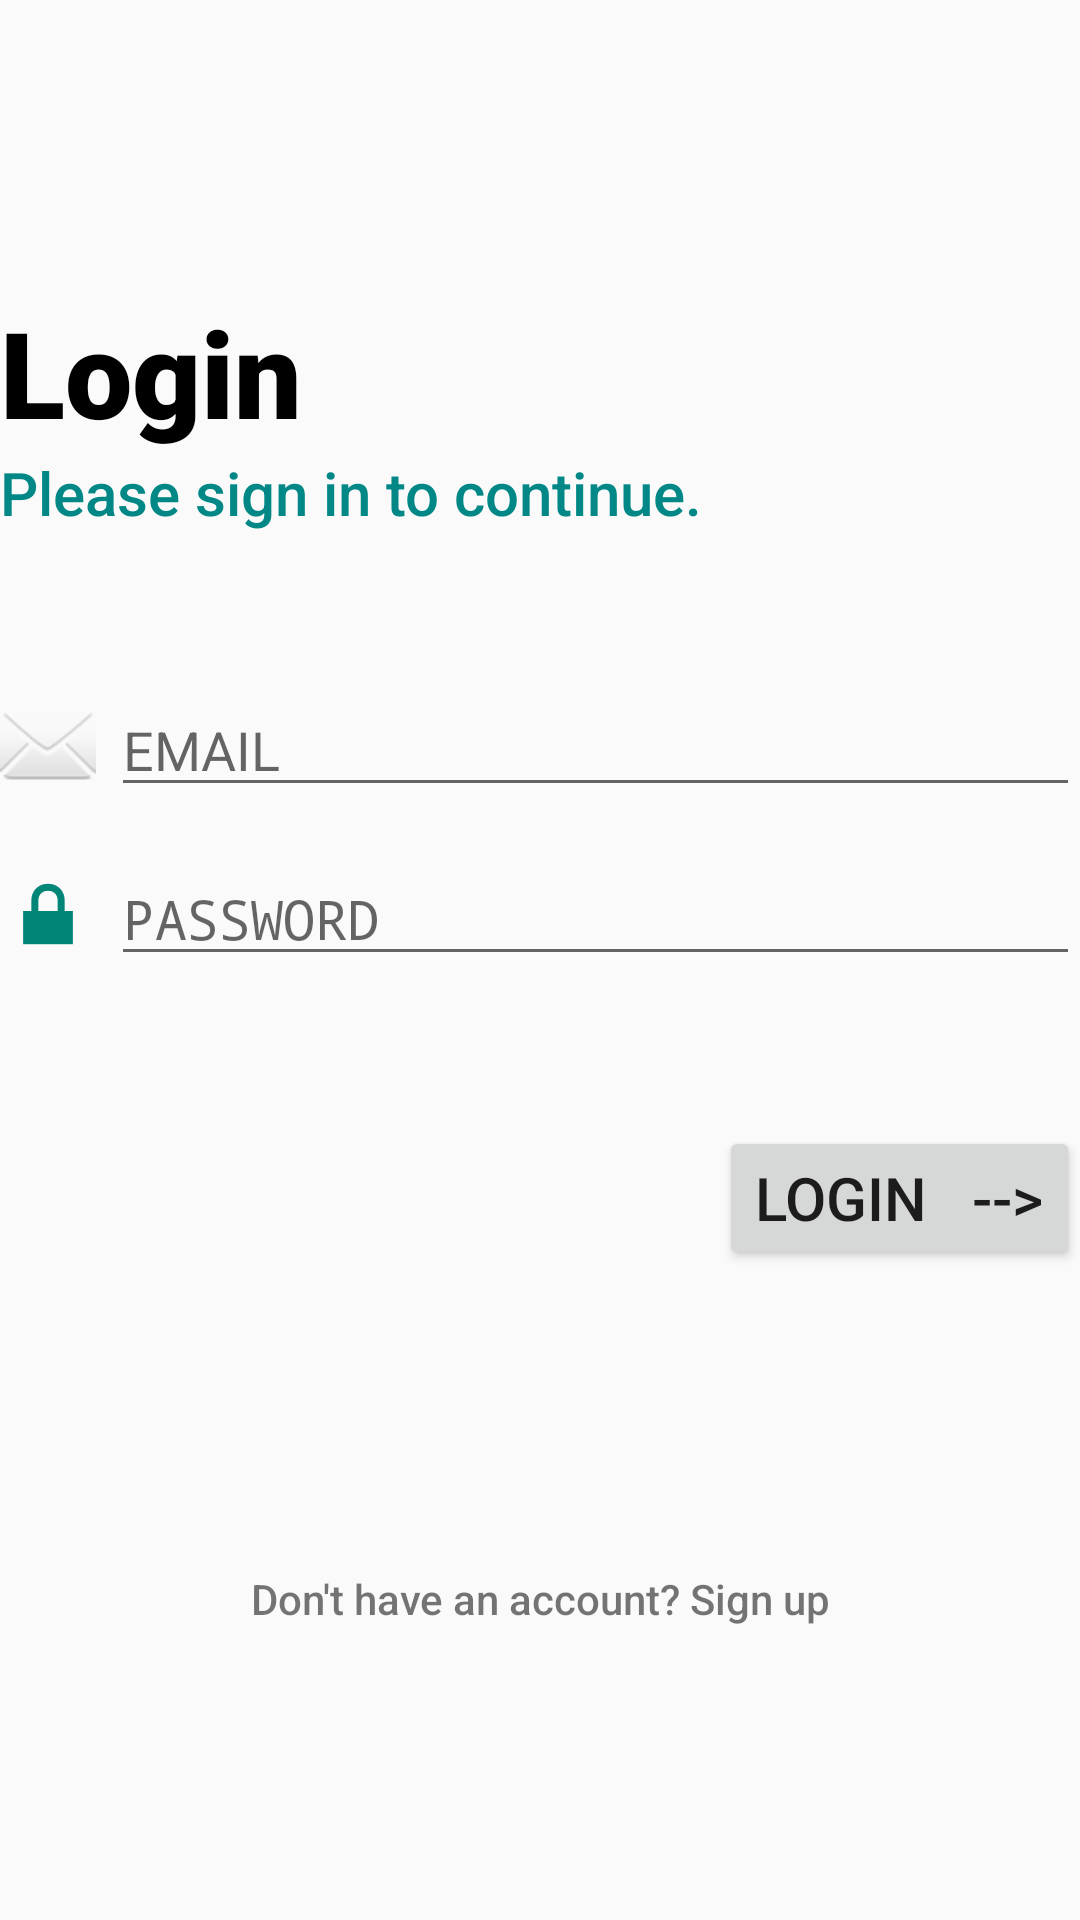

Locate icon controls on the screen. Image size 1080px x 1920px, boxes as (x1, y1, x2, y2).
lock: (23, 883, 73, 945)
